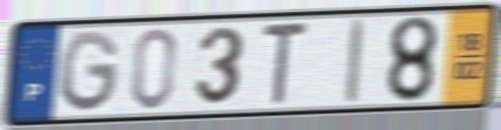0: (129, 26, 179, 112)
3: (191, 25, 247, 109)
8: (385, 14, 440, 105)
G: (58, 28, 123, 116)
I: (342, 15, 367, 107)
T: (259, 20, 311, 109)
